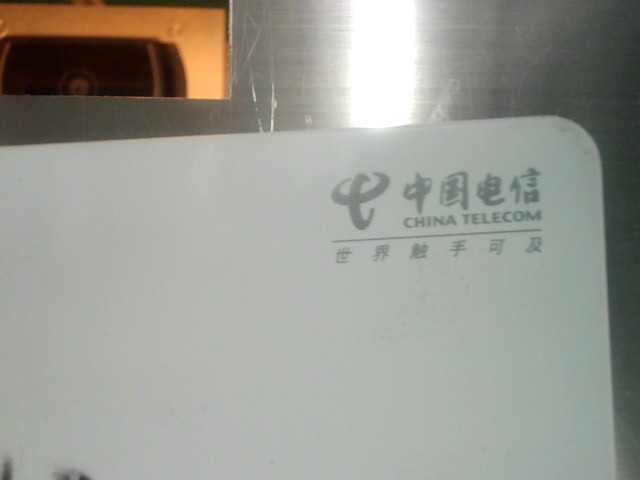AB_ChinaTelecom: (318, 159, 555, 270)
